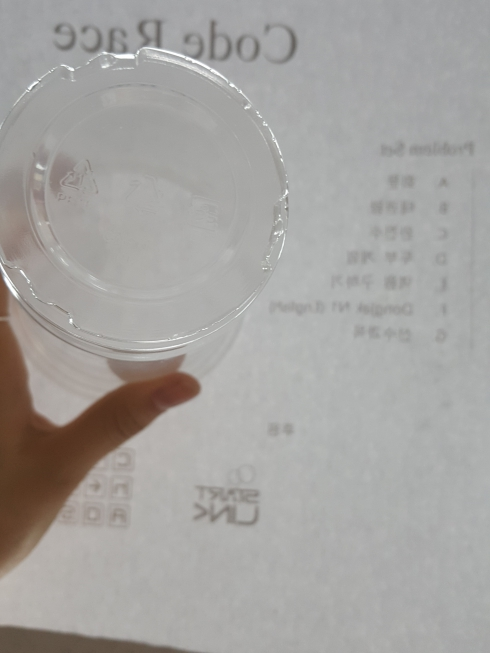recycle: (56, 145, 105, 219)
